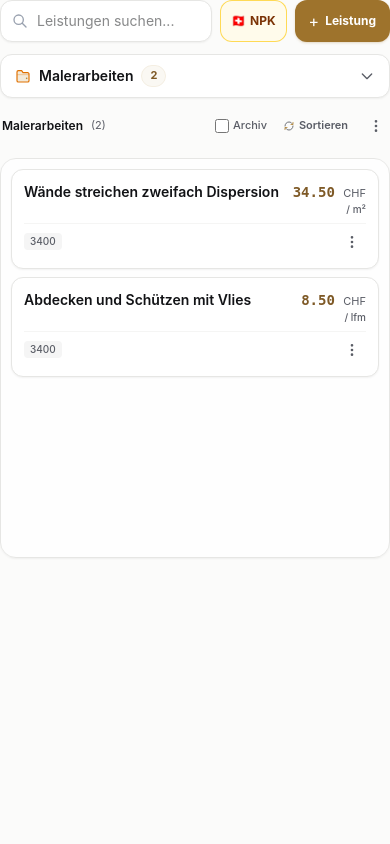
it: KatalogView Mobile Optimization › opens category dropdown and displays create category button
This screenshot has width=390, height=844.
Expected: the 1st text "Malerarbeiten" is shown, [39,66,134,86]
// Click the category dropdown trigger
Click the button "Malerarbeiten 2".
click(86, 75)  # box [0,54,389,98]
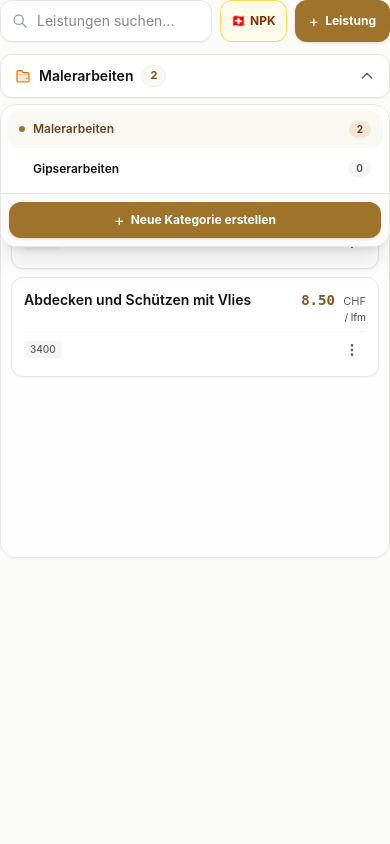
Result: the text "Neue Kategorie erstellen" is shown
Result: the text "Gipserarbeiten" is shown at [33,161,119,177]
// Click "+ Neue Kategorie erstellen" button
Click the text "Neue Kategorie erstellen".
click(203, 220)  # box [131,212,276,228]
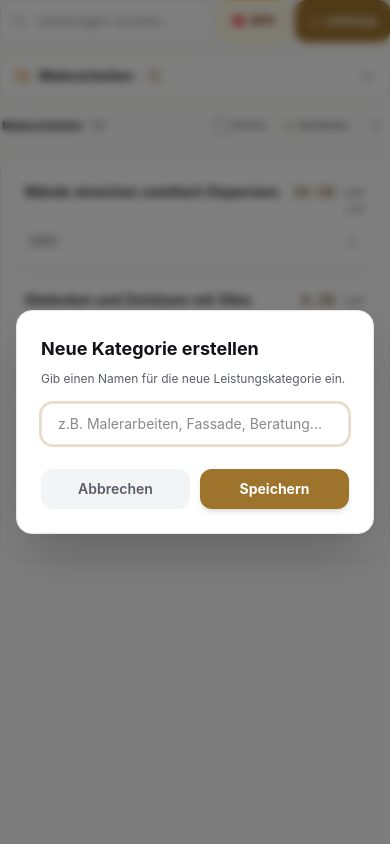
Result: the field with placeholder "z.B. Malerarbeiten, Fassade, Beratung..." is shown at [41,403,349,445]
